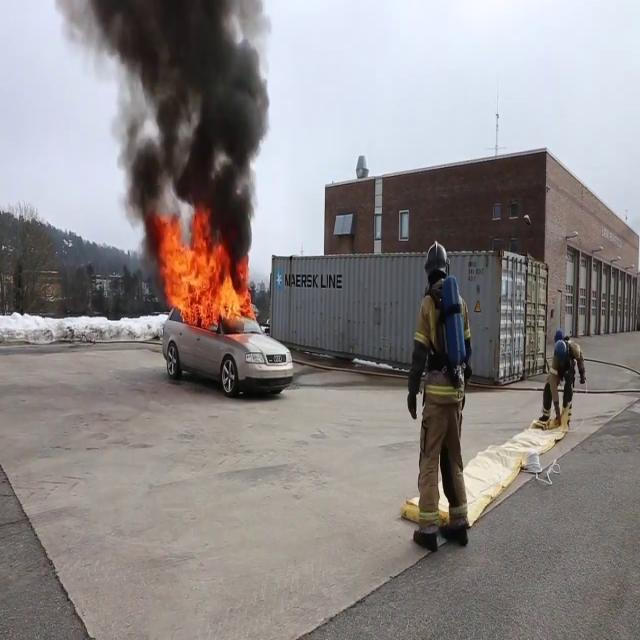Fire: (156, 208, 256, 334)
Smoke: (80, 0, 276, 238)
